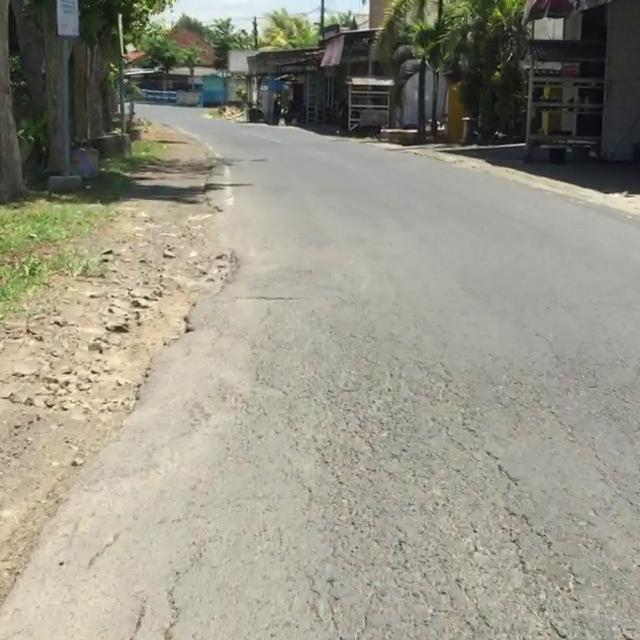retak_kulit_buaya: (287, 368, 561, 640), (87, 535, 211, 640)
